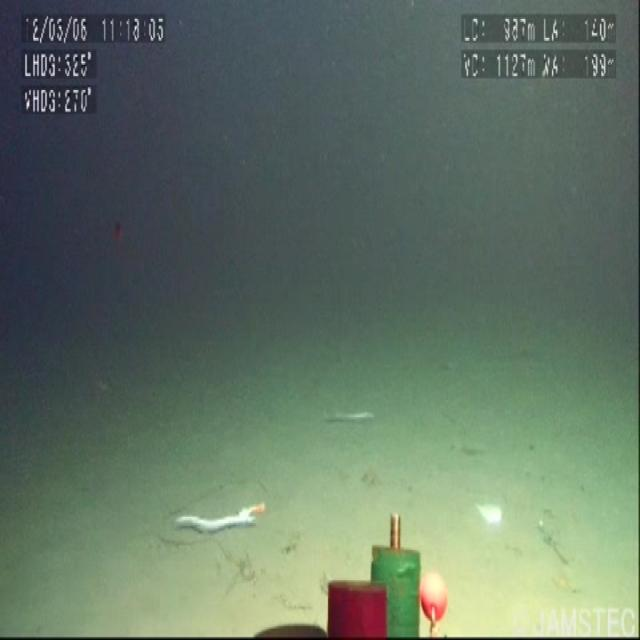Natual-Debris: (158, 476, 288, 581), (297, 376, 416, 467)
